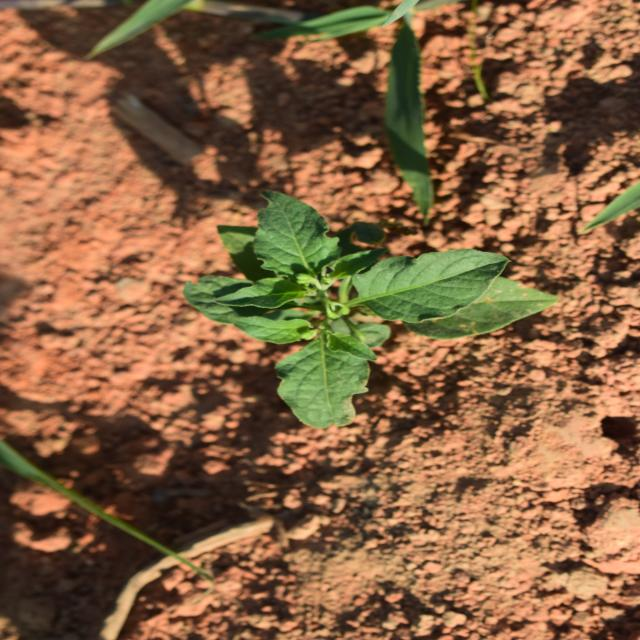Black_nightshade: (234, 188, 452, 552)
